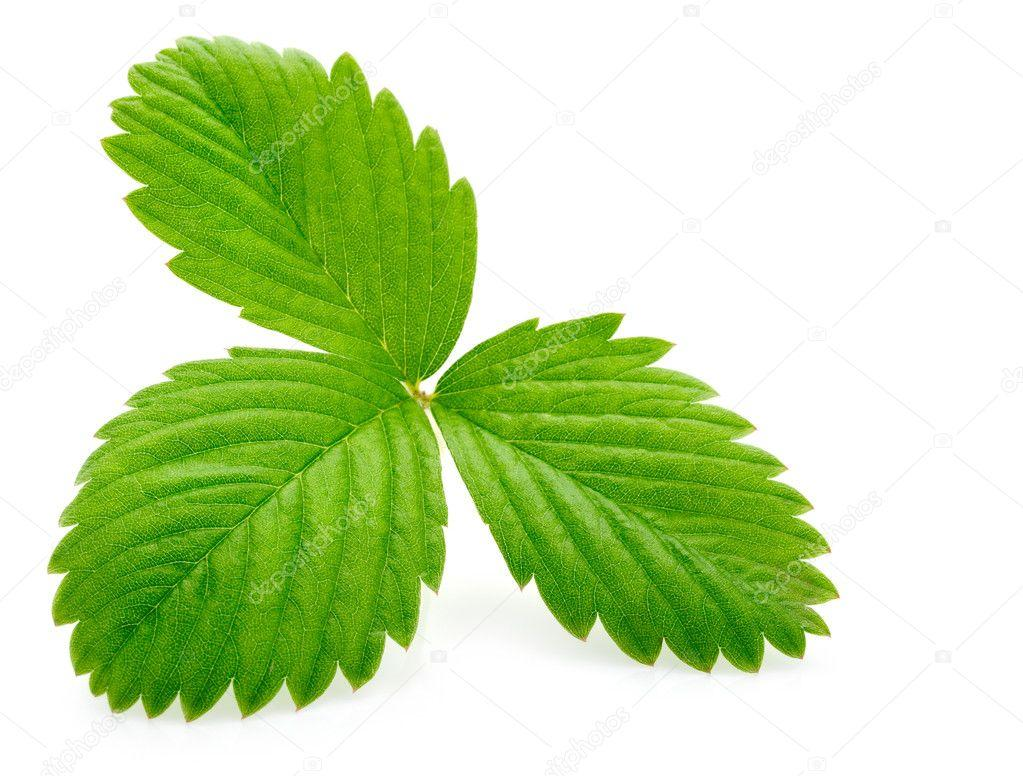Strawberry leaf: (85, 3, 485, 395), (437, 300, 844, 676), (40, 344, 427, 729)
